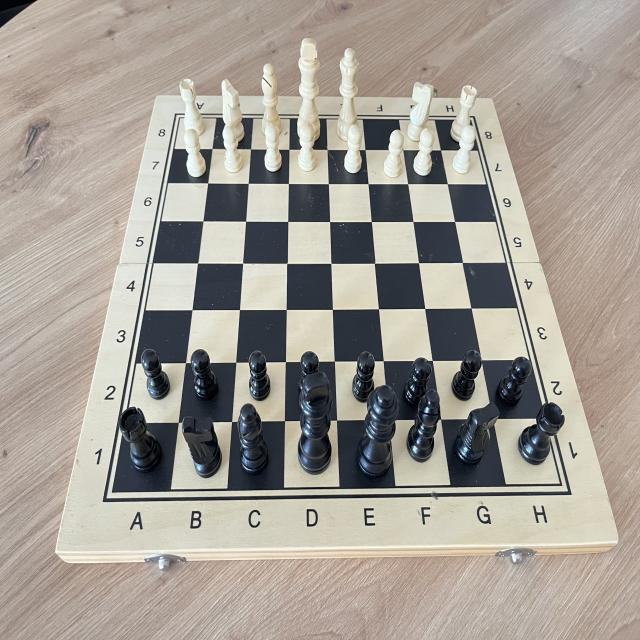black-bishop: (404, 384, 442, 466), (234, 401, 272, 477)
black-king: (294, 365, 334, 478)
black-knight: (451, 401, 501, 469), (180, 408, 224, 479)
black-pawn: (495, 343, 533, 408), (399, 348, 434, 412), (294, 346, 330, 407), (449, 342, 484, 404), (137, 345, 174, 402), (186, 343, 221, 402), (349, 343, 378, 406), (246, 347, 273, 402)
black-queen: (354, 380, 401, 483)
black-rook: (115, 402, 165, 475), (516, 398, 566, 468)
white-bishop: (260, 61, 283, 140)
white-king: (296, 36, 324, 145)
white-knight: (219, 77, 249, 145), (406, 75, 435, 144)
white-pawn: (450, 122, 478, 175), (382, 123, 406, 180), (412, 122, 436, 178), (342, 119, 365, 175), (221, 120, 244, 174), (296, 120, 318, 175), (262, 120, 284, 174)
white-queen: (336, 46, 362, 143)
white-rook: (176, 75, 208, 137), (449, 77, 478, 145), (182, 126, 208, 180)
